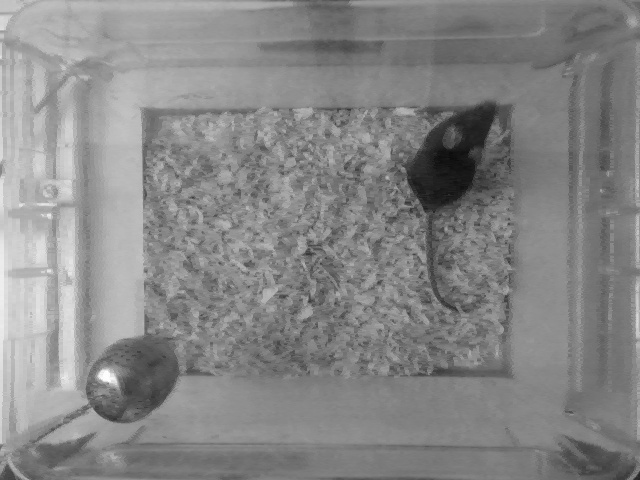mice: (404, 91, 507, 313)
